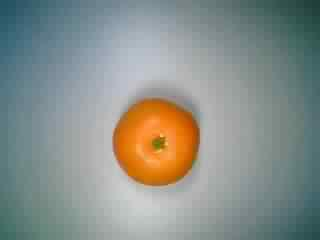orange: (107, 88, 202, 190)
